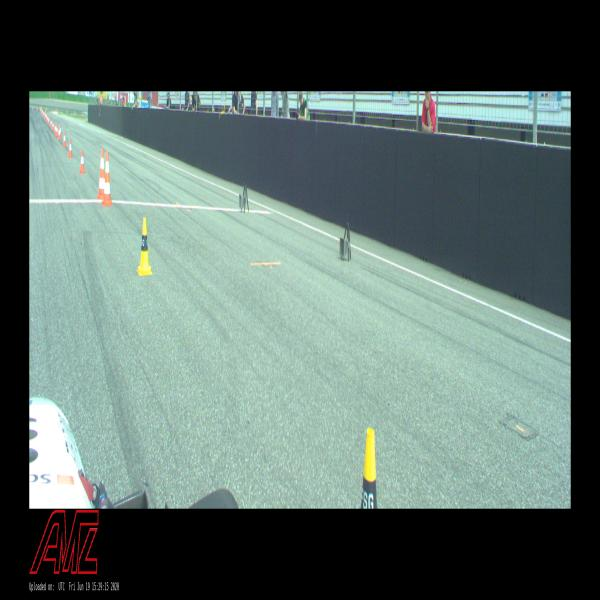large_orange_cone: (103, 154, 112, 206), (97, 148, 104, 200)
orange_cone: (79, 149, 86, 174), (67, 139, 73, 158), (63, 133, 67, 147), (55, 123, 58, 138), (59, 124, 62, 138), (58, 125, 60, 140), (54, 123, 56, 135), (52, 120, 54, 132), (50, 118, 52, 128), (48, 116, 50, 125)
yellow_cone: (360, 428, 377, 509), (136, 217, 152, 275)
